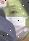with_mask: (1, 2, 29, 41)
